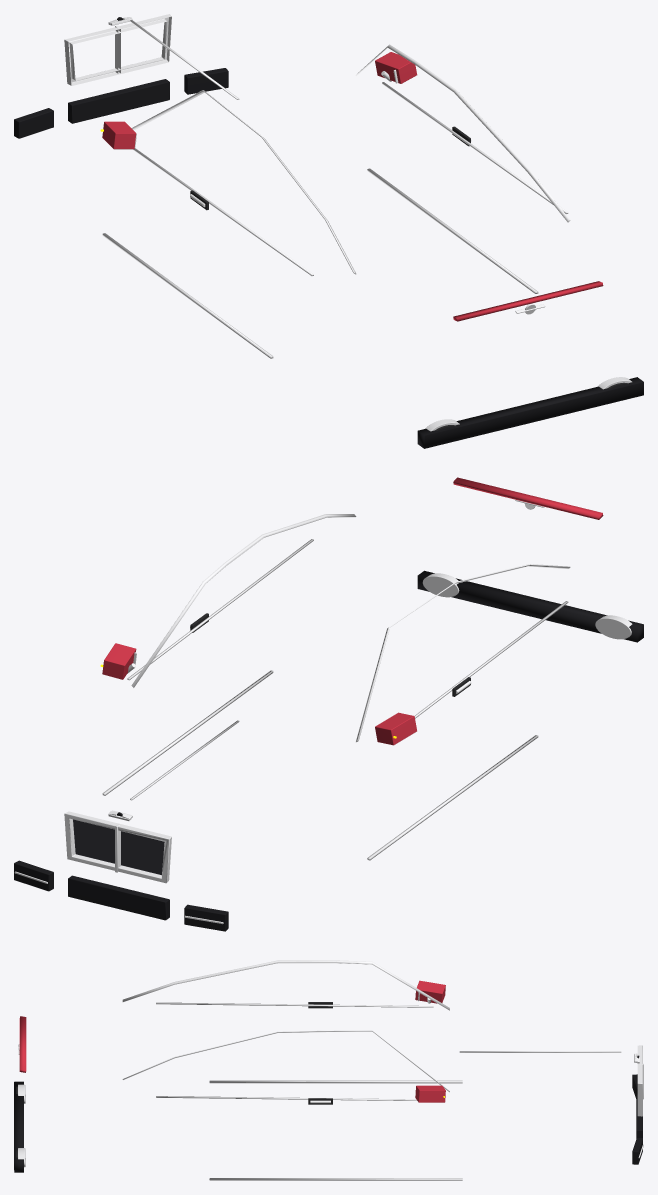
Rendered from exterior_panels.glb.
3 renders of one model, top to bottom at view 1: azimuth 30°, elevation 25°; view 2: azimuth 150°, elevation 25°; view 3: azimuth 270°, elevation 25°, orthographic. The views are drawn at different scales.
Parts seen in each view (by area): view 1: BODY_Rear_Lower_Diffuser_Valance, FASCIA_Bentley_Matrix_Grille_Assembly, FASCIA_Lower_Center_Intake_Dam, Window_Chrome_Arch_L, BODY_Rear_Ducktail_Lip, Rocker_Chrome_Spear_L, FASCIA_Lower_Brake_Cooling_Duct_L, Mirror_Housing_L, Rocker_Chrome_Spear_R, Window_Chrome_Arch_R, FASCIA_Lower_Brake_Cooling_Duct_R, Mirror_Housing_R (+2 smaller); view 2: FASCIA_Bentley_Matrix_Grille_Assembly, BODY_Rear_Lower_Diffuser_Valance, FASCIA_Lower_Center_Intake_Dam, BODY_Rear_Ducktail_Lip, Window_Chrome_Arch_L, Mirror_Housing_R, FASCIA_Lower_Brake_Cooling_Duct_R, Rocker_Chrome_Spear_R, Rocker_Chrome_Spear_L, Window_Chrome_Arch_R, Mirror_Housing_L, FASCIA_Lower_Brake_Cooling_Duct_L (+3 smaller); view 3: Window_Chrome_Arch_R, Rocker_Chrome_Spear_R, BODY_Rear_Lower_Diffuser_Valance, Rocker_Chrome_Spear_L, Window_Chrome_Arch_L, Window_Chrome_Beltline_R, Window_Chrome_Beltline_L, Mirror_Housing_L, Mirror_Housing_R, BODY_Rear_Ducktail_Lip, FASCIA_Bentley_Matrix_Grille_Assembly.
Part boxes in pixels (x1,y1,x2,y2): BODY_Rear_Lower_Diffuser_Valance: (417, 377, 643, 448); FASCIA_Bentley_Matrix_Grille_Assembly: (64, 14, 171, 85); FASCIA_Lower_Center_Intake_Dam: (68, 79, 169, 123); Window_Chrome_Arch_L: (356, 44, 570, 222); BODY_Rear_Ducktail_Lip: (453, 281, 603, 321); Rocker_Chrome_Spear_L: (367, 168, 538, 293); FASCIA_Lower_Brake_Cooling_Duct_L: (184, 68, 228, 94); Mirror_Housing_L: (375, 52, 417, 83); Rocker_Chrome_Spear_R: (102, 233, 273, 358); Window_Chrome_Arch_R: (131, 90, 356, 274); FASCIA_Lower_Brake_Cooling_Duct_R: (14, 108, 53, 138); Mirror_Housing_R: (102, 121, 136, 149); FASCIA_Bentley_Matrix_Grille_Assembly: (64, 811, 171, 883); BODY_Rear_Lower_Diffuser_Valance: (417, 570, 643, 642); FASCIA_Lower_Center_Intake_Dam: (68, 875, 169, 920); BODY_Rear_Ducktail_Lip: (453, 477, 603, 519); Window_Chrome_Arch_L: (131, 514, 356, 687); Mirror_Housing_R: (375, 712, 416, 745); FASCIA_Lower_Brake_Cooling_Duct_R: (184, 904, 228, 931); Rocker_Chrome_Spear_R: (367, 735, 538, 860); Rocker_Chrome_Spear_L: (102, 670, 273, 795); Window_Chrome_Arch_R: (356, 564, 570, 742); Mirror_Housing_L: (102, 643, 136, 679); FASCIA_Lower_Brake_Cooling_Duct_L: (14, 860, 53, 891); Window_Chrome_Arch_R: (122, 960, 449, 1010); Rocker_Chrome_Spear_R: (209, 1080, 462, 1083); BODY_Rear_Lower_Diffuser_Valance: (14, 1081, 23, 1172); Rocker_Chrome_Spear_L: (209, 1178, 462, 1180); Window_Chrome_Arch_L: (122, 1030, 449, 1092); Window_Chrome_Beltline_R: (156, 1002, 433, 1007); Window_Chrome_Beltline_L: (156, 1096, 417, 1100); Mirror_Housing_L: (415, 1085, 445, 1102); Mirror_Housing_R: (415, 980, 445, 1003); BODY_Rear_Ducktail_Lip: (19, 1016, 26, 1072); FASCIA_Bentley_Matrix_Grille_Assembly: (637, 1045, 643, 1116).
Bounding box in the file's own units: 2.04 × 1.18 × 4.87.
